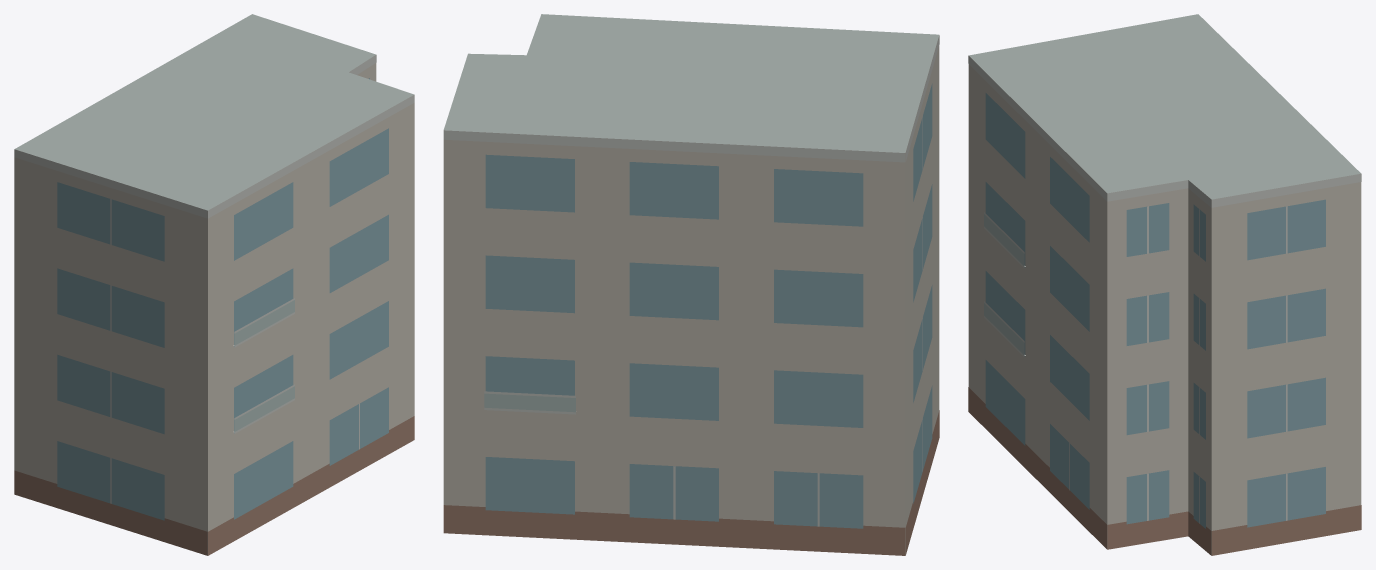
Rendered from survey-upis-32516351.glb.
The picture shows the model from 3 angles, left to right: view 1: azimuth 30°, elevation 25°; view 2: azimuth 150°, elevation 25°; view 3: azimuth 270°, elevation 25°; orthographic projection. The views are drawn at different scales.
Parts seen in each view (by area): view 1: survey-upis-32516351.tmp; view 2: survey-upis-32516351.tmp; view 3: survey-upis-32516351.tmp.
Part boxes in pixels (x1,y1,x2,y2): survey-upis-32516351.tmp: [14, 14, 414, 555]; survey-upis-32516351.tmp: [443, 14, 939, 555]; survey-upis-32516351.tmp: [968, 14, 1361, 555].
Bounding box in the file's own units: 11.74 × 10.5 × 10.51.
